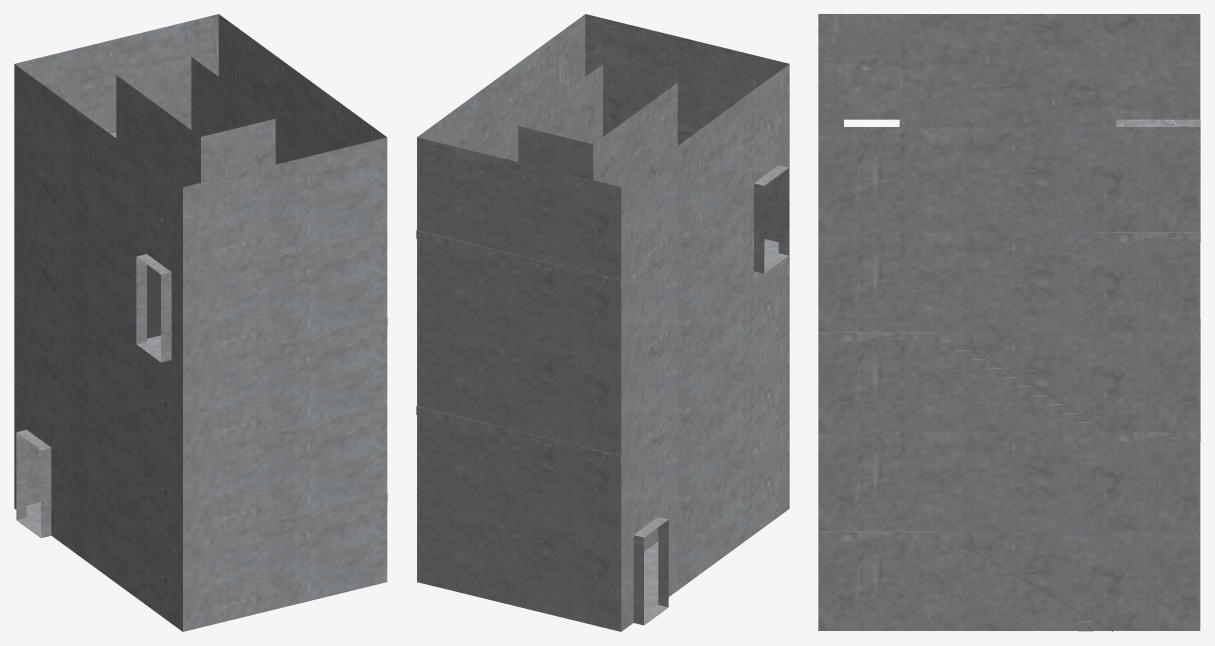
The model's file is Loop_In_M.fbx.
The picture shows the model from 3 angles, left to right: view 1: azimuth 30°, elevation 25°; view 2: azimuth 150°, elevation 25°; view 3: azimuth 270°, elevation 25°; orthographic projection. The views are drawn at different scales.
Visible parts, largest first — view 1: polySurface52, polySurface8, polySurface60; view 2: polySurface52, polySurface103, polySurface92; view 3: polySurface52, polySurface60, polySurface82, polySurface92, polySurface103.
Boxes of the visible parts, box(x1,y1,x2,y2) form: polySurface52: box(14, 14, 387, 631); polySurface8: box(147, 264, 160, 338); polySurface60: box(137, 494, 387, 551); polySurface52: box(417, 14, 789, 631); polySurface103: box(416, 406, 724, 464); polySurface92: box(416, 230, 722, 288); polySurface52: box(818, 14, 1200, 630); polySurface60: box(818, 531, 1093, 631); polySurface82: box(818, 332, 1094, 431); polySurface92: box(1094, 119, 1200, 242); polySurface103: box(1094, 319, 1200, 441).
Bounding box in the file's own units: 10.67 × 21.08 × 14.48.
3 materials, 3 textured.
